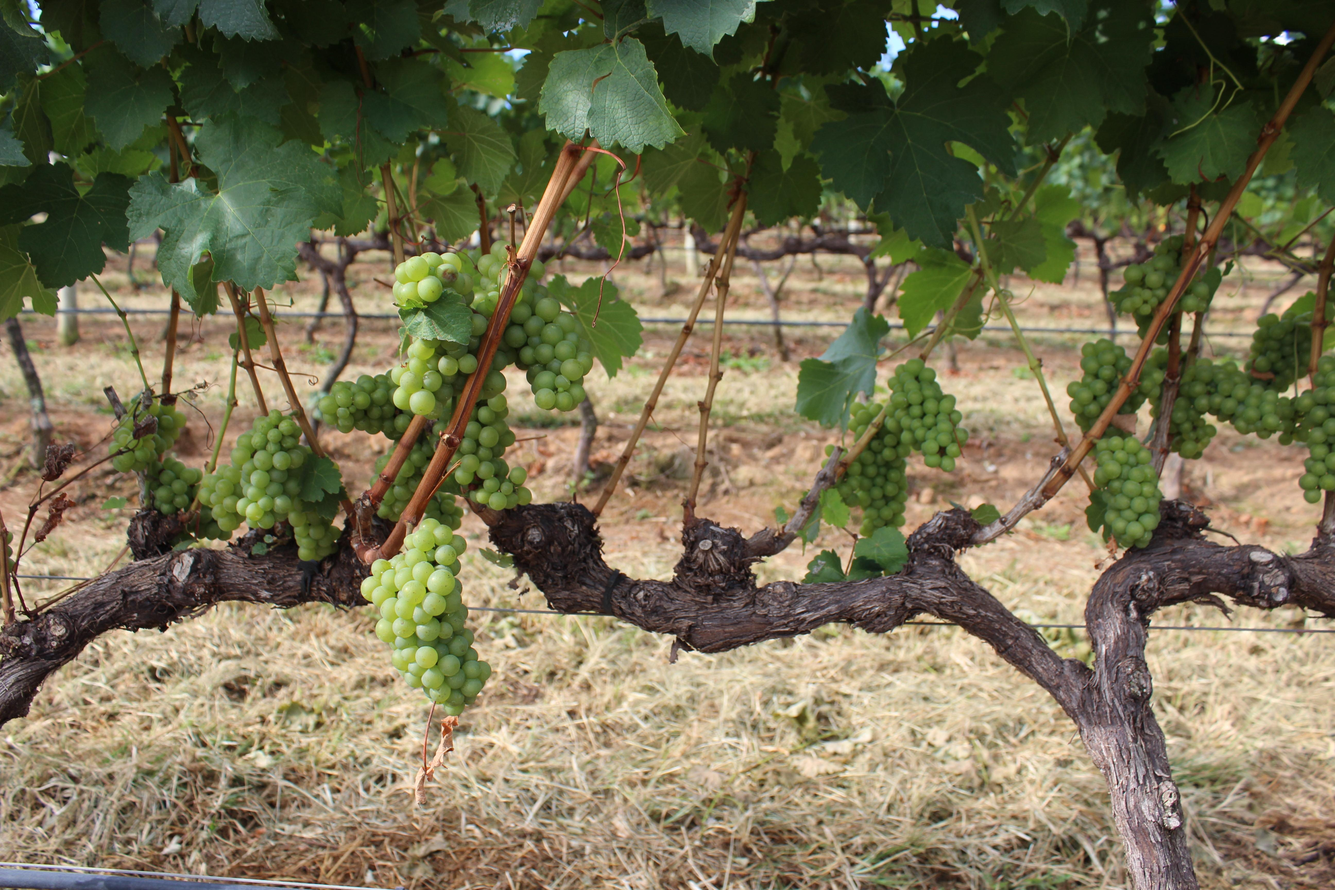leaf: (129, 116, 343, 314), (812, 39, 1014, 247), (987, 0, 1155, 143), (0, 162, 130, 288), (540, 38, 682, 153), (796, 307, 889, 426), (1156, 87, 1262, 184), (549, 276, 642, 377), (85, 47, 173, 150), (1095, 90, 1171, 200), (363, 58, 449, 142), (636, 26, 720, 110), (897, 248, 973, 337), (441, 106, 516, 195), (702, 72, 781, 152), (646, 0, 755, 56), (747, 149, 822, 226), (99, 0, 181, 67), (1027, 185, 1082, 283), (0, 225, 56, 320), (40, 66, 97, 156), (346, 0, 421, 61), (1290, 106, 1335, 203), (399, 291, 473, 344), (419, 181, 479, 242), (0, 23, 49, 92), (987, 217, 1046, 274), (1000, 0, 1088, 31), (854, 526, 909, 574), (467, 0, 542, 32), (299, 457, 343, 503), (801, 550, 846, 583), (0, 121, 29, 166), (820, 488, 850, 528), (245, 315, 267, 349), (970, 503, 1001, 526), (228, 331, 241, 351), (506, 140, 508, 142), (475, 113, 476, 113)
